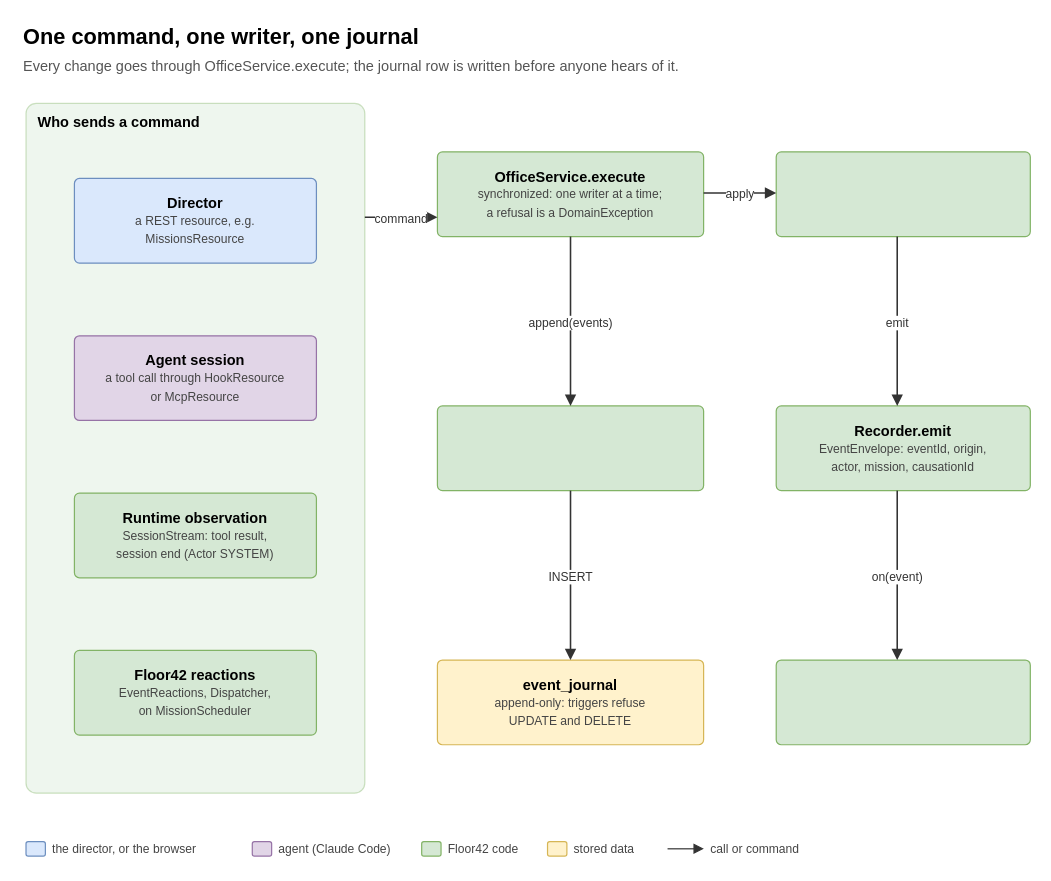
Image size: 1051x881. Some labels were removed from this diagram. The shapes that lost their labels are listed below. From the top down, each one's centre as x and y in pixels, then its label:
the point at 902,194: Company and facades check everything, then emit (MissionsFacade, ...)
the point at 570,448: SqliteJournal.append EventCodec writes the payload JSON
the point at 902,702: Applied in memory MissionBook.on, TicketBoard.on, ... (the projections)
